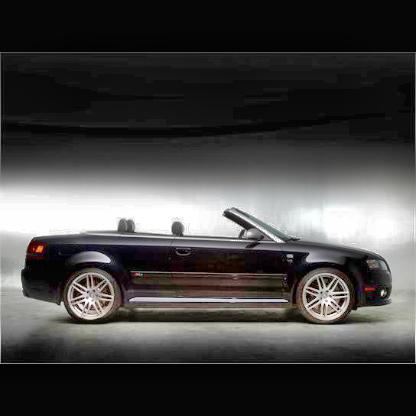Audi RS 4 Convertible 2008: (17, 210, 393, 330)
